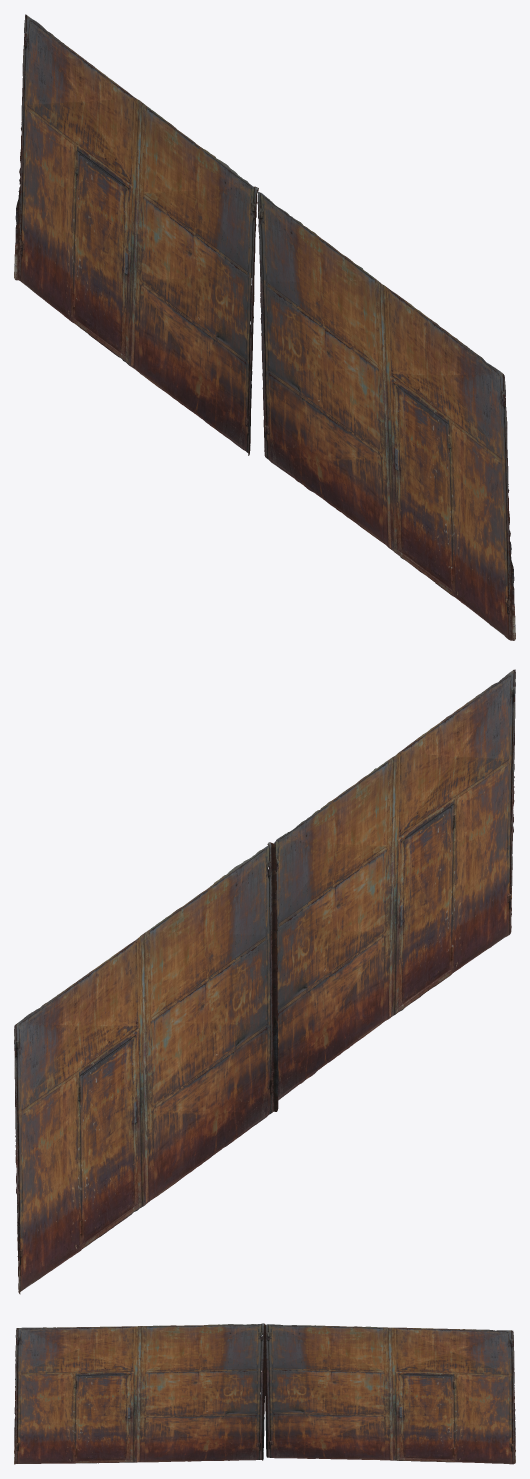
The model's file is gate.glb.
3 views of the same model, one above another, from view 1: azimuth 30°, elevation 25°; view 2: azimuth 150°, elevation 25°; view 3: azimuth 270°, elevation 25° (orthographic). The views are drawn at different scales.
Visible parts, largest first — view 1: rusty-gate_rusty-gate_u2_v1_0, rusty-gate_rusty-gate_u2_v1_0.001; view 2: rusty-gate_rusty-gate_u2_v1_0.001, rusty-gate_rusty-gate_u2_v1_0; view 3: rusty-gate_rusty-gate_u2_v1_0, rusty-gate_rusty-gate_u2_v1_0.001.
Boxes of the visible parts, x1,y1,x2,y2 form: rusty-gate_rusty-gate_u2_v1_0: [256, 190, 515, 640]; rusty-gate_rusty-gate_u2_v1_0.001: [14, 14, 258, 455]; rusty-gate_rusty-gate_u2_v1_0.001: [14, 842, 278, 1294]; rusty-gate_rusty-gate_u2_v1_0: [268, 669, 515, 1100]; rusty-gate_rusty-gate_u2_v1_0: [14, 1323, 265, 1464]; rusty-gate_rusty-gate_u2_v1_0.001: [264, 1324, 515, 1464].
Bounding box in the file's own units: 0.2707 × 3.23 × 10.61.
4 materials, 4 textured.
